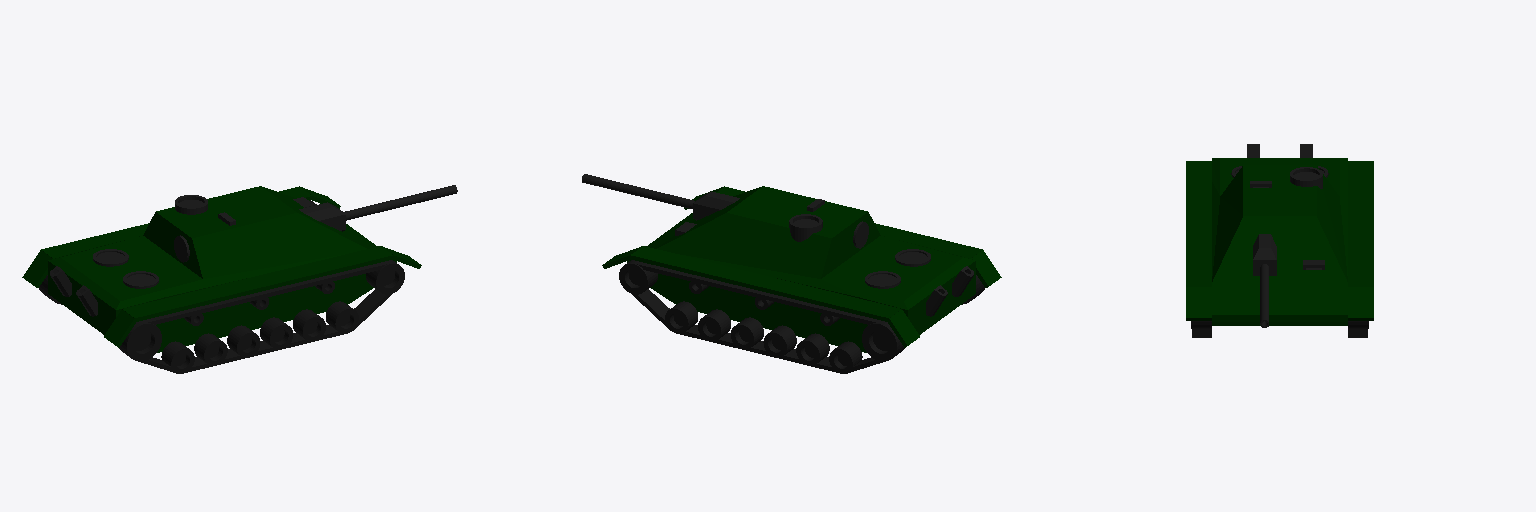
The model's file is tank2.obj.
3 views of the same model, side by side, from view 1: azimuth 30°, elevation 25°; view 2: azimuth 150°, elevation 25°; view 3: azimuth 270°, elevation 25° (orthographic).
Parts seen in each view (by area): view 1: Kocka, Kocka.006, Kocka.005, Kocka.017, Henger.023, Henger, Henger.002, Kocka.001, Henger.003, Henger.005, Henger.009, Henger.008 (+7 smaller); view 2: Kocka, Kocka.017, Kocka.011, Kocka.006, Henger.019, Henger, Henger.001, Kocka.012, Henger.016, Henger.017, Henger.014, Henger.015 (+7 smaller); view 3: Kocka, Kocka.006, Kocka.017, Kocka.007, Kocka.016, Kocka.003, Henger.012, Henger.
Boxes of the visible parts, <box> form: Kocka: <box>48,186,396,352</box>; Kocka.006: <box>122,246,392,321</box>; Kocka.005: <box>141,261,388,324</box>; Kocka.017: <box>41,187,311,258</box>; Henger.023: <box>119,321,161,361</box>; Henger: <box>344,185,457,220</box>; Henger.002: <box>366,260,404,294</box>; Kocka.001: <box>182,325,343,373</box>; Henger.003: <box>326,301,358,333</box>; Henger.005: <box>260,317,292,349</box>; Henger.009: <box>293,309,325,341</box>; Henger.008: <box>194,333,227,365</box>; Kocka: <box>627,186,975,352</box>; Kocka.017: <box>630,246,901,321</box>; Kocka.011: <box>635,261,882,324</box>; Kocka.006: <box>716,187,982,258</box>; Henger.019: <box>862,321,904,361</box>; Henger: <box>582,174,694,208</box>; Henger.001: <box>619,260,657,294</box>; Kocka.012: <box>676,325,837,372</box>; Henger.016: <box>763,325,796,357</box>; Henger.017: <box>796,333,829,365</box>; Henger.014: <box>698,309,730,341</box>; Henger.015: <box>731,317,763,349</box>; Kocka: <box>1212,158,1347,325</box>; Kocka.006: <box>1186,161,1211,286</box>; Kocka.017: <box>1348,161,1373,286</box>; Kocka.007: <box>1186,287,1211,320</box>; Kocka.016: <box>1348,287,1373,320</box>; Kocka.003: <box>1253,234,1276,275</box>; Henger.012: <box>1290,167,1322,188</box>; Henger: <box>1260,264,1268,327</box>.
Size of the model in its own units: 5.84 by 1.66 by 2.48.